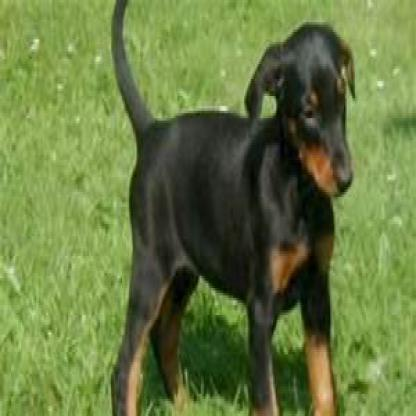dog: (111, 0, 358, 414)
